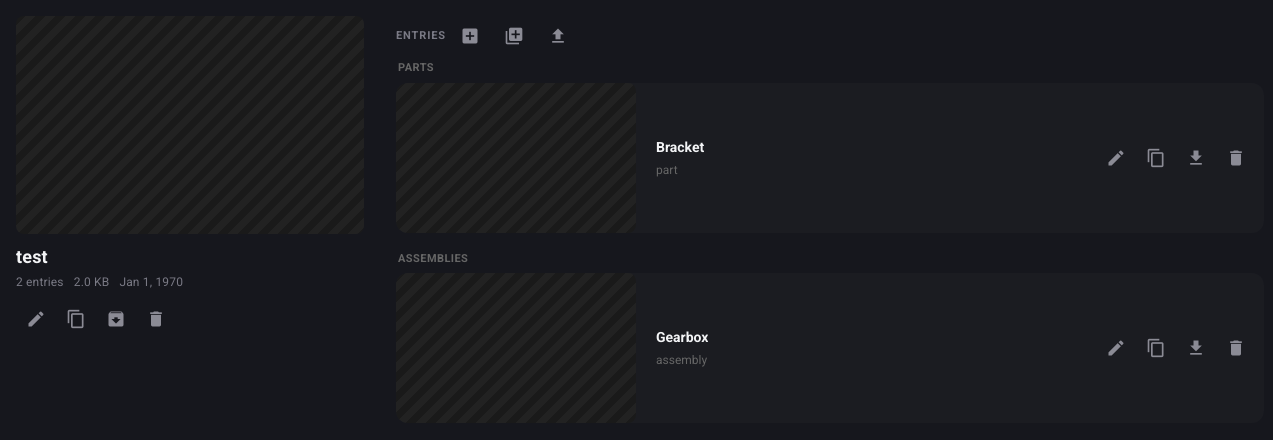
it: WorkspaceView delete guards › reports a plain delete failure in the banner
The width and height of the screenshot is (1273, 440).
expect the text "Bracket" is shown: met, box [656, 136, 704, 158]
Step 1. Click the button named "Delete Bracket" → (1236, 158), box [1216, 138, 1256, 178]
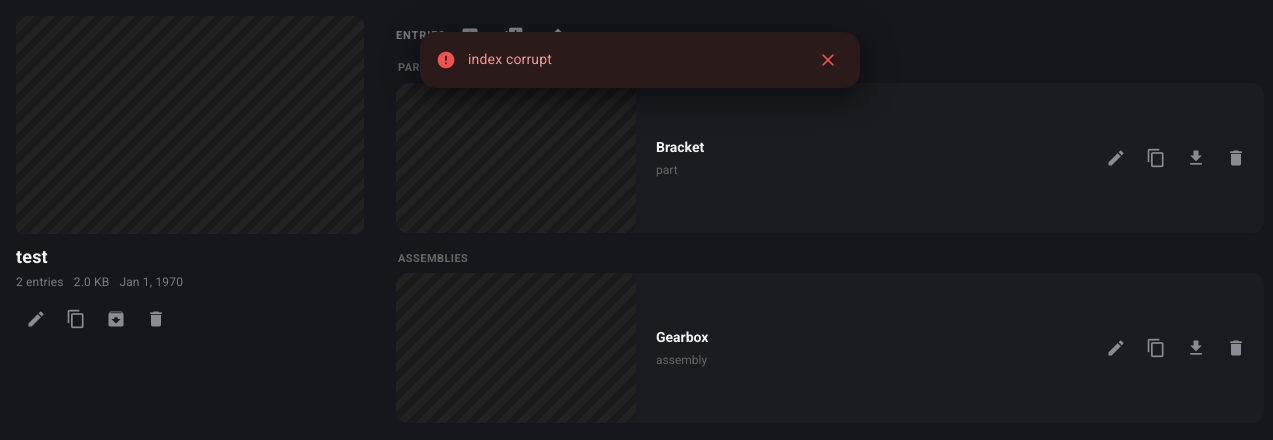
expect the text "index corrupt" is shown: met, box [468, 51, 552, 67]
